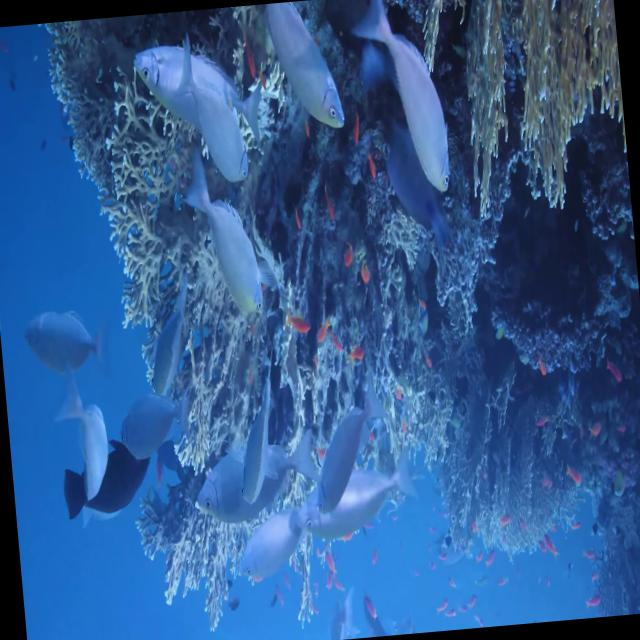fish: (356, 0, 451, 202), (131, 35, 263, 156), (185, 153, 264, 321), (190, 428, 320, 528), (306, 372, 394, 516), (264, 0, 347, 139), (294, 456, 414, 550), (175, 44, 252, 188), (58, 429, 161, 528), (231, 496, 317, 584), (139, 275, 200, 395), (20, 300, 111, 376), (115, 389, 198, 458), (74, 393, 112, 503)
